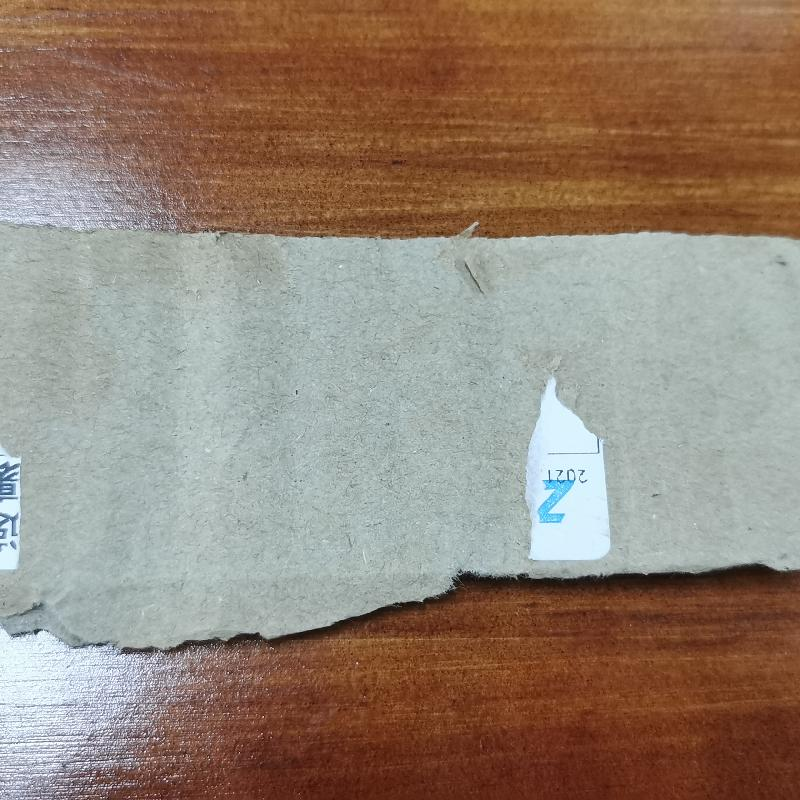boxes: (9, 211, 799, 650)
